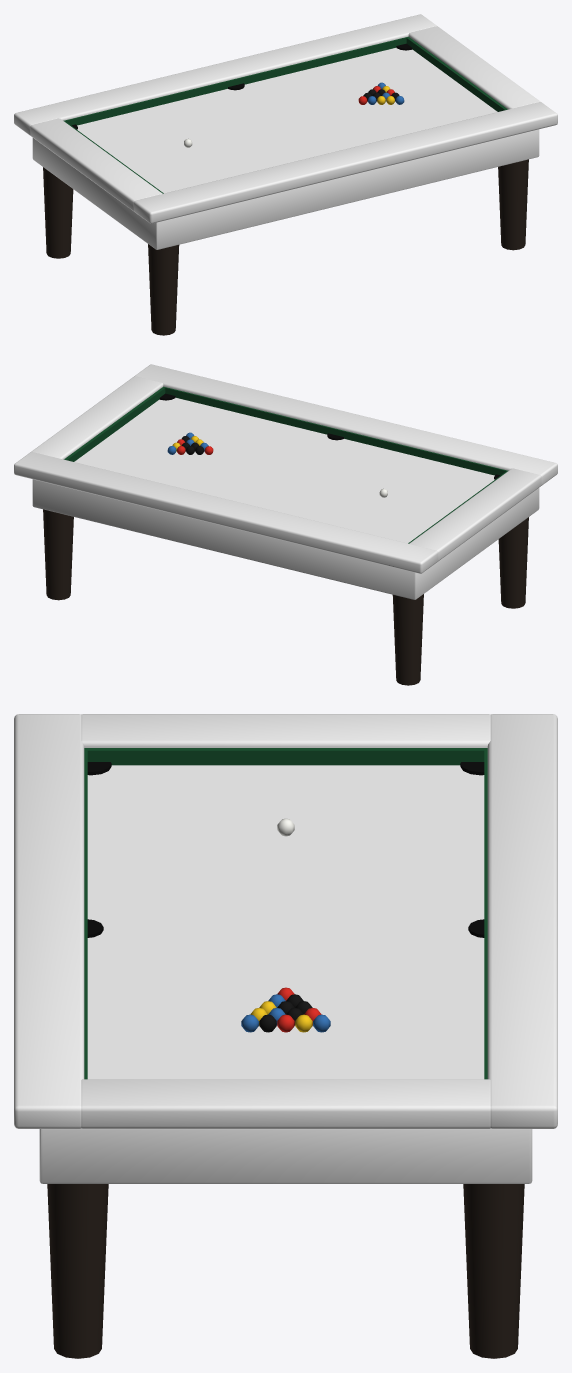
Rendered from pool_table.glb.
3 views of the same model, one above another, from view 1: azimuth 30°, elevation 25°; view 2: azimuth 150°, elevation 25°; view 3: azimuth 270°, elevation 25° (orthographic). The views are drawn at different scales.
Visible parts, largest first — view 1: apron, cloth, leg, cush; view 2: apron, cloth, leg, cush; view 3: cloth, apron, leg, cush, pk, ball.001, ball.002.
Part boxes in pixels (bbox=[...]): apron: bbox=[14, 14, 557, 249]; cloth: bbox=[77, 47, 497, 193]; leg: bbox=[43, 159, 528, 335]; cush: bbox=[63, 36, 507, 193]; apron: bbox=[14, 364, 557, 599]; cloth: bbox=[74, 397, 494, 543]; leg: bbox=[43, 509, 528, 685]; cush: bbox=[64, 386, 508, 543]; cloth: bbox=[87, 765, 484, 1079]; apron: bbox=[14, 714, 557, 1183]; leg: bbox=[47, 1184, 524, 1358]; cush: bbox=[84, 748, 487, 1079]; pk: bbox=[87, 762, 484, 937]; ball.001: bbox=[241, 994, 330, 1032]; ball.002: bbox=[259, 994, 312, 1032].
Size of the model in its own units: 2.92 by 0.93 by 1.7.
